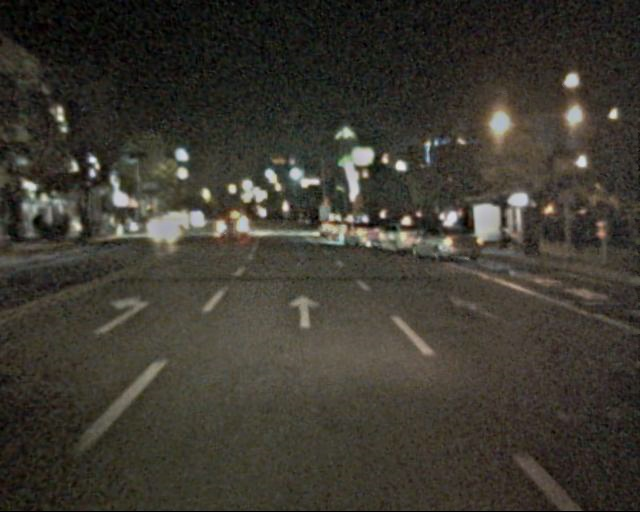person: (566, 206, 588, 262), (539, 207, 560, 255), (499, 222, 513, 256)
